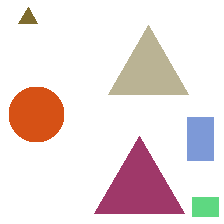circle: (9, 87, 63, 141)
rectangle: (187, 117, 213, 160), (192, 197, 218, 216)
triangle: (94, 136, 184, 213), (108, 25, 188, 94), (18, 7, 37, 23)
